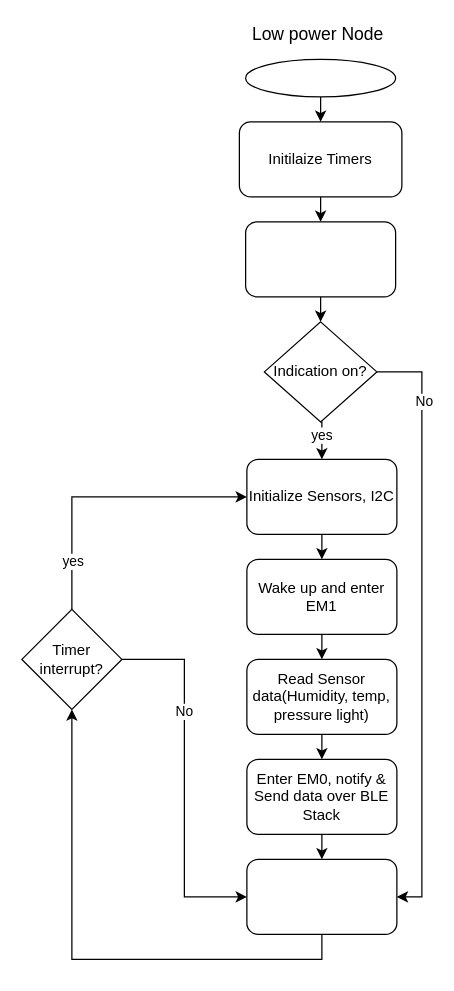
Image size: 454x991. Some labels were removed from this diagram. The shapes that lost their labels are listed below. From the top down, each one's centre as x and y in pixels, then its label:
point (320, 77): Start
point (320, 259): Initialize BLE stack
point (321, 896): Enter EM2 and sleep
